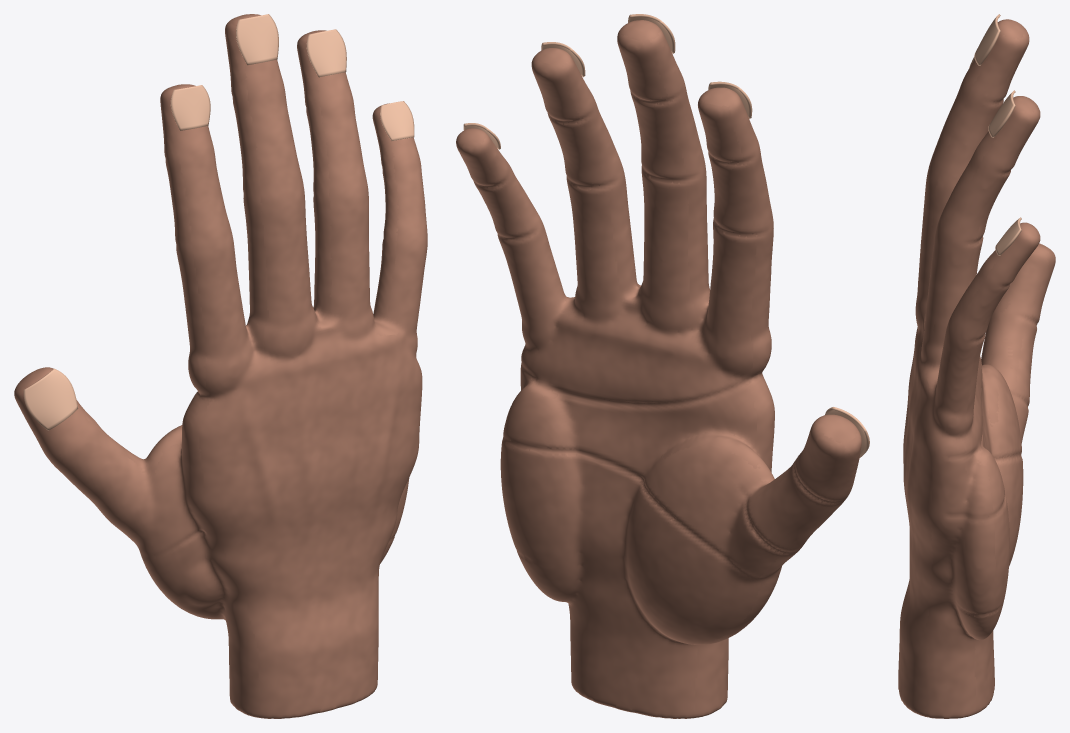
The model's file is family-00.glb.
3 renders of one model, left to right at view 1: azimuth 30°, elevation 25°; view 2: azimuth 150°, elevation 25°; view 3: azimuth 270°, elevation 25°, orthographic. The views are drawn at different scales.
Visible parts, largest first — view 1: knuckles__knuckles_sculpt, back_of_hand__back_of_hand_sculpt, middle_sections__middle_sections_sculpt, wrist__wrist_sculpt, fingertips__fingertips_sculpt, palm__palm_sculpt, nails__thumb_claw, nails__middle_claw, nails__ring_claw, nails__index_claw, nails__pinky_claw; view 2: knuckles__knuckles_sculpt, palm__palm_sculpt, middle_sections__middle_sections_sculpt, wrist__wrist_sculpt, fingertips__fingertips_sculpt; view 3: palm__palm_sculpt, knuckles__knuckles_sculpt, middle_sections__middle_sections_sculpt, wrist__wrist_sculpt, back_of_hand__back_of_hand_sculpt, fingertips__fingertips_sculpt, nails__middle_claw, nails__ring_claw, nails__pinky_claw.
Part boxes in pixels (x1=…): knuckles__knuckles_sculpt: x1=101, y1=173, x2=427, y2=595; back_of_hand__back_of_hand_sculpt: x1=184, y1=355, x2=422, y2=613; middle_sections__middle_sections_sculpt: x1=43, y1=77, x2=426, y2=513; wrist__wrist_sculpt: x1=175, y1=560, x2=382, y2=718; fingertips__fingertips_sculpt: x1=14, y1=14, x2=418, y2=451; palm__palm_sculpt: x1=164, y1=402, x2=409, y2=606; nails__thumb_claw: x1=23, y1=368, x2=78, y2=430; nails__middle_claw: x1=236, y1=14, x2=278, y2=65; nails__ring_claw: x1=306, y1=29, x2=346, y2=77; nails__index_claw: x1=170, y1=85, x2=210, y2=130; nails__pinky_claw: x1=380, y1=101, x2=414, y2=141; knuckles__knuckles_sculpt: x1=495, y1=154, x2=804, y2=621; palm__palm_sculpt: x1=500, y1=341, x2=771, y2=631; middle_sections__middle_sections_sculpt: x1=470, y1=73, x2=852, y2=547; wrist__wrist_sculpt: x1=531, y1=578, x2=742, y2=718; fingertips__fingertips_sculpt: x1=456, y1=20, x2=861, y2=495; palm__palm_sculpt: x1=949, y1=356, x2=1022, y2=631; knuckles__knuckles_sculpt: x1=911, y1=156, x2=1029, y2=500; middle_sections__middle_sections_sculpt: x1=932, y1=71, x2=1039, y2=393; wrist__wrist_sculpt: x1=898, y1=579, x2=996, y2=718; back_of_hand__back_of_hand_sculpt: x1=903, y1=369, x2=950, y2=619; fingertips__fingertips_sculpt: x1=967, y1=19, x2=1055, y2=315; nails__middle_claw: x1=974, y1=14, x2=1000, y2=65; nails__ring_claw: x1=988, y1=90, x2=1015, y2=137; nails__pinky_claw: x1=995, y1=217, x2=1021, y2=255.
Bounding box in the file's own units: 0.1312 × 0.2169 × 0.0472.
2 materials, 1 textured.
